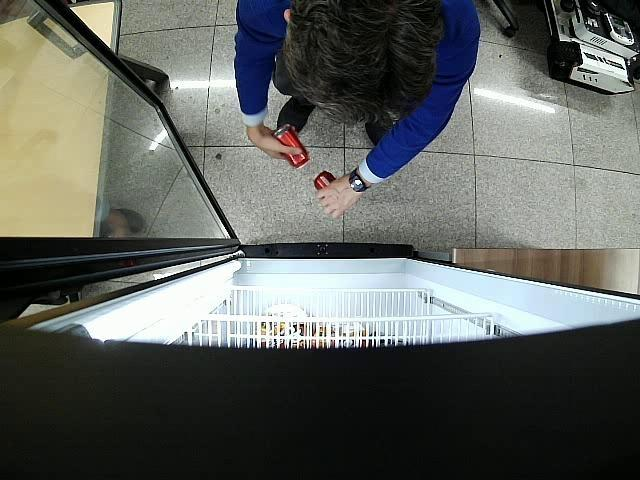11_cocaColaZero: (273, 124, 310, 169), (314, 171, 338, 190)
